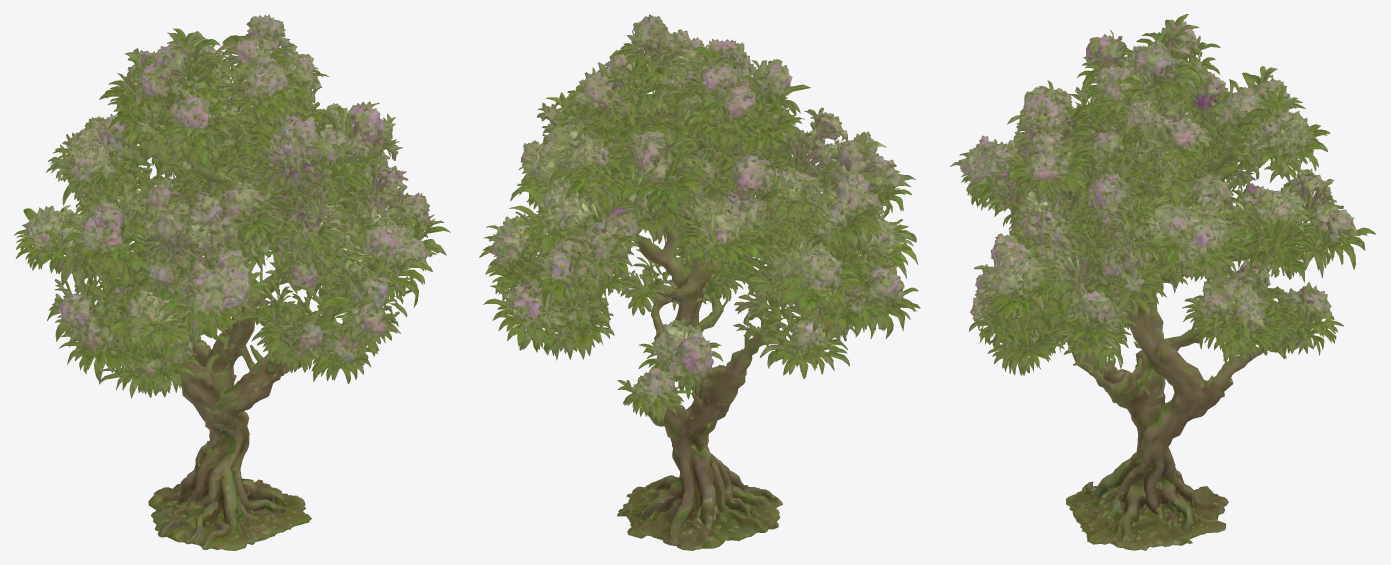
File: Meshy_AI_tree_small_flowering_0823015503_image-to-3d-texture.glb
3 views of the same model, side by side, from view 1: azimuth 30°, elevation 25°; view 2: azimuth 150°, elevation 25°; view 3: azimuth 270°, elevation 25° (orthographic).
Size of the model in its own units: 1.57 by 1.9 by 1.5.
Materials: 1 (1 with a texture image).
